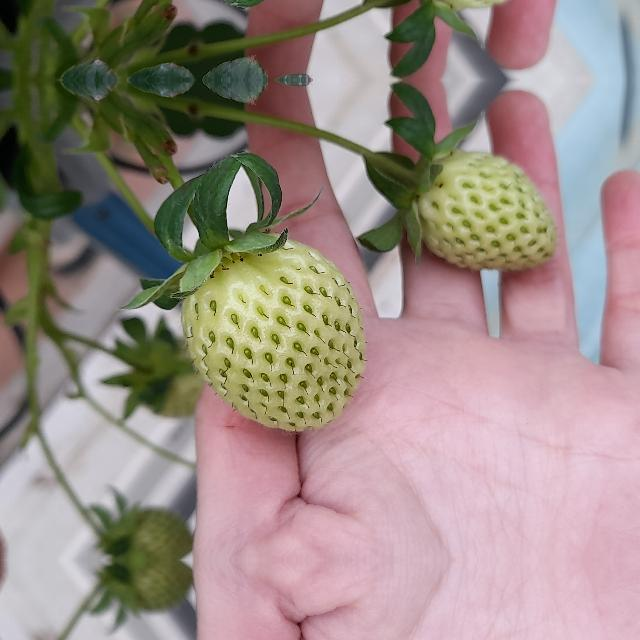Health_25: (180, 232, 366, 430), (414, 152, 556, 274)
